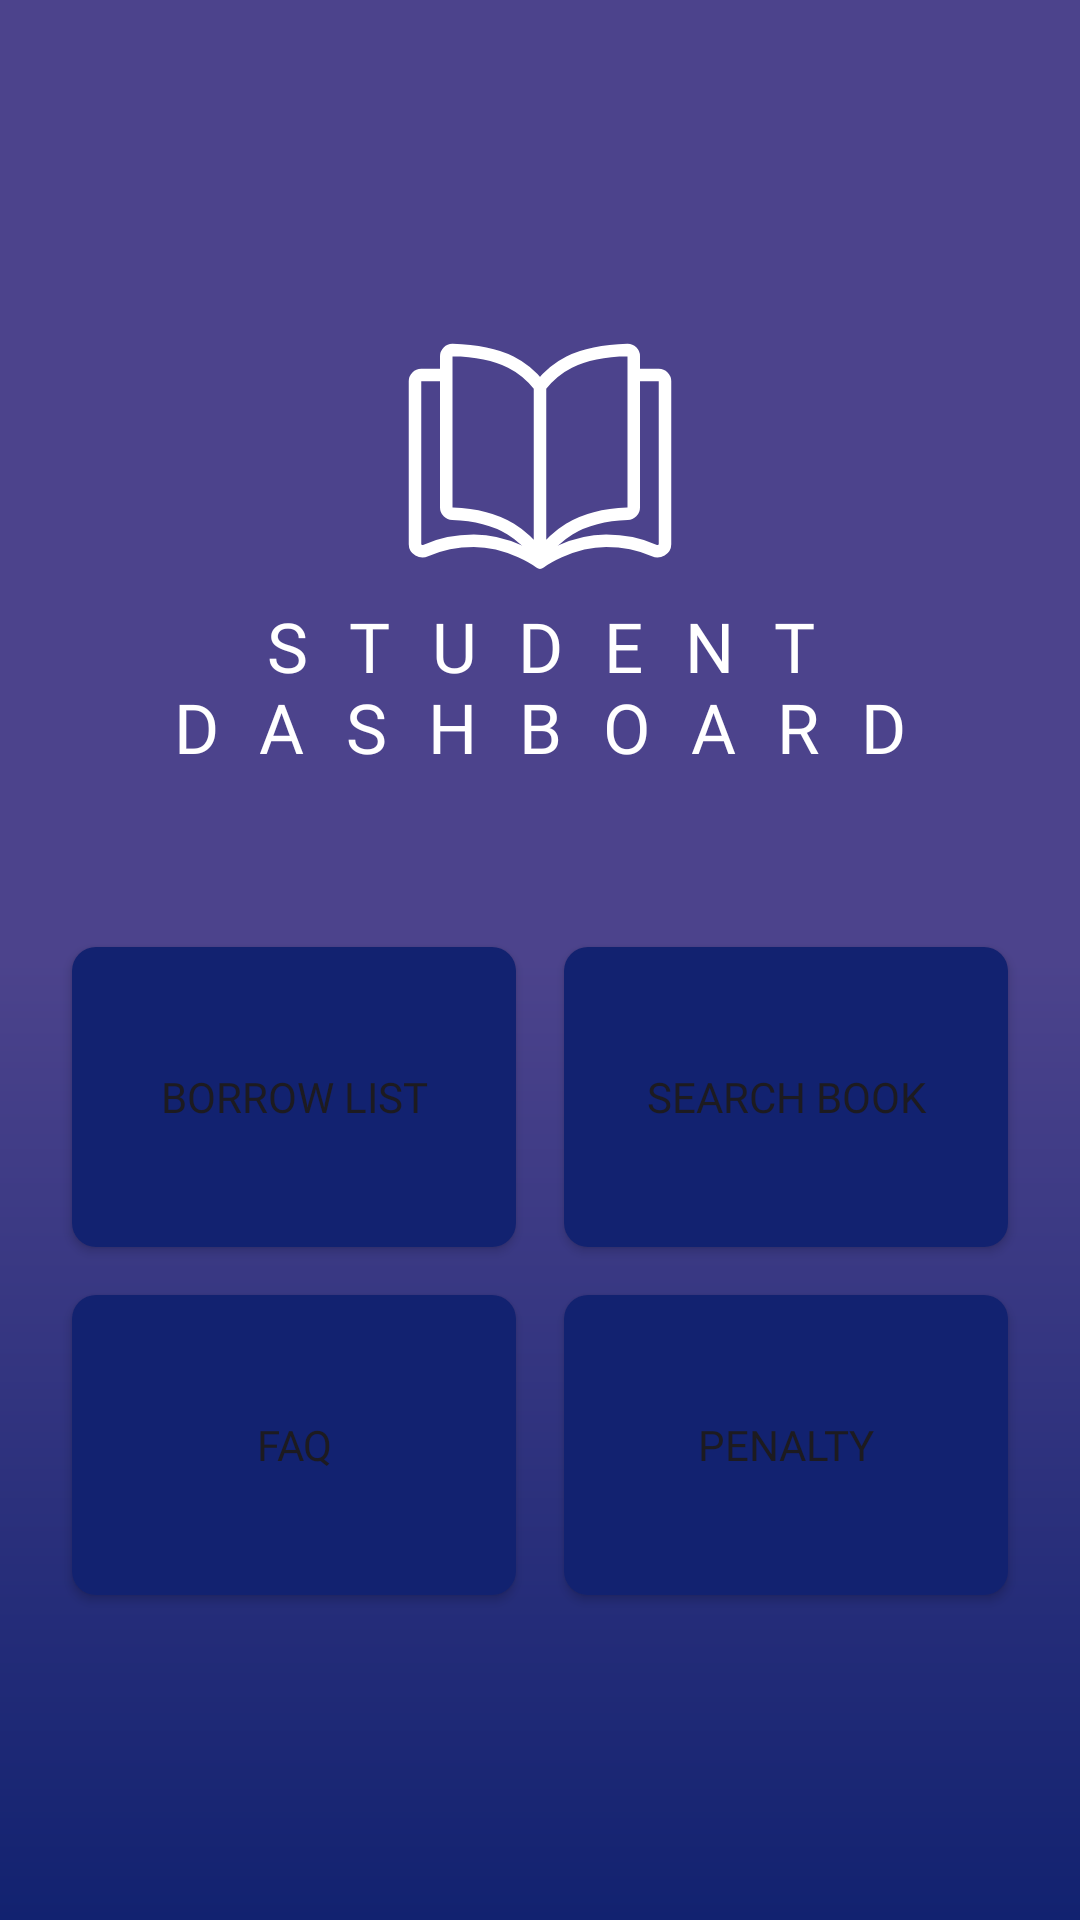

Locate icon controls on the screen. Image size 1080 x 1920, boxes as (x1, y1, x2, y2).
book: (408, 343, 672, 569)
